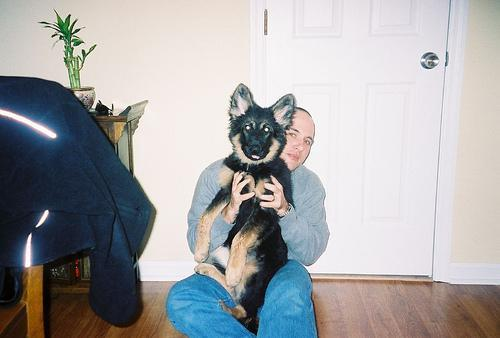German_shepherd: (193, 83, 298, 336)
